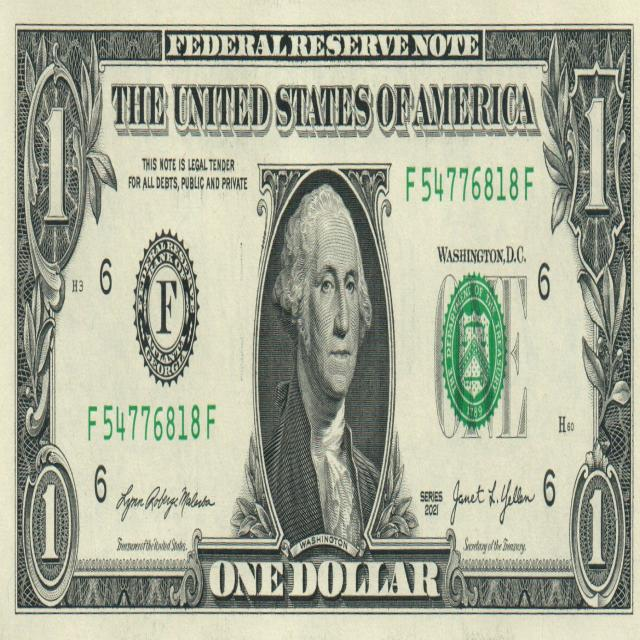SerialNumber: (406, 167, 533, 203), (89, 405, 215, 441)
